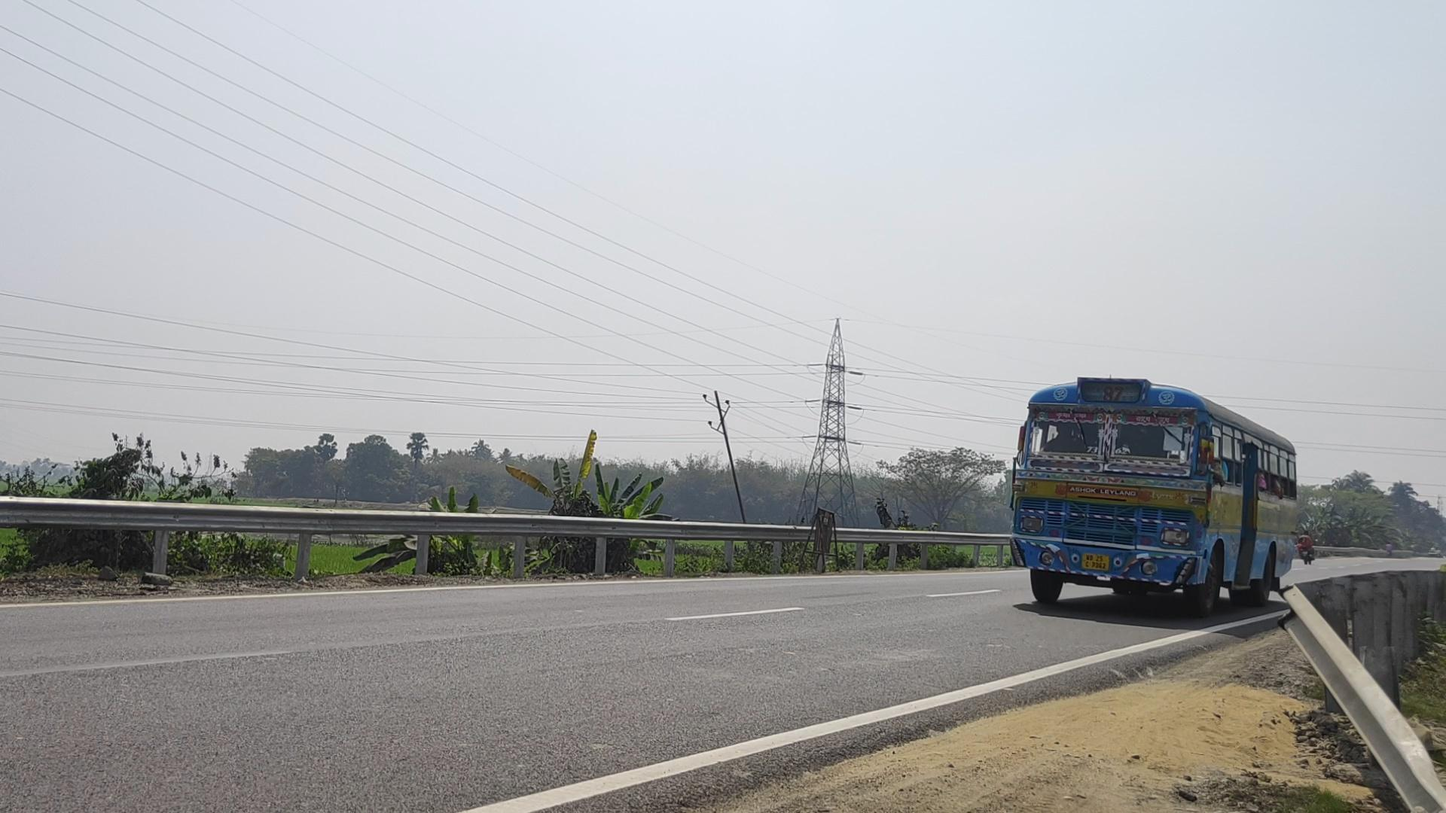Bus: (1010, 377, 1298, 618)
bike: (1296, 529, 1319, 567)
